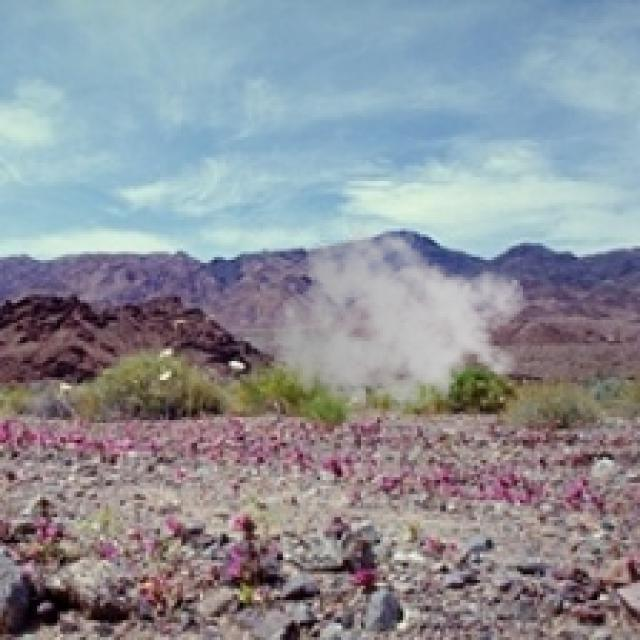Smoke: (268, 217, 528, 434)
